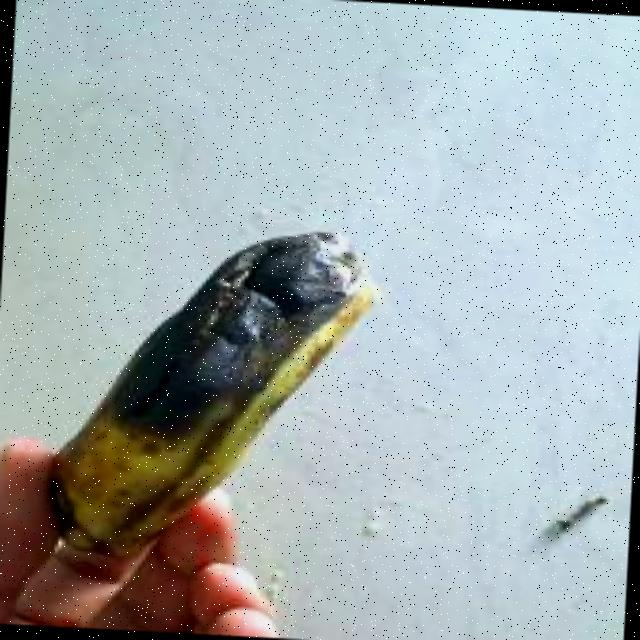Rotten: (0, 155, 391, 576)
